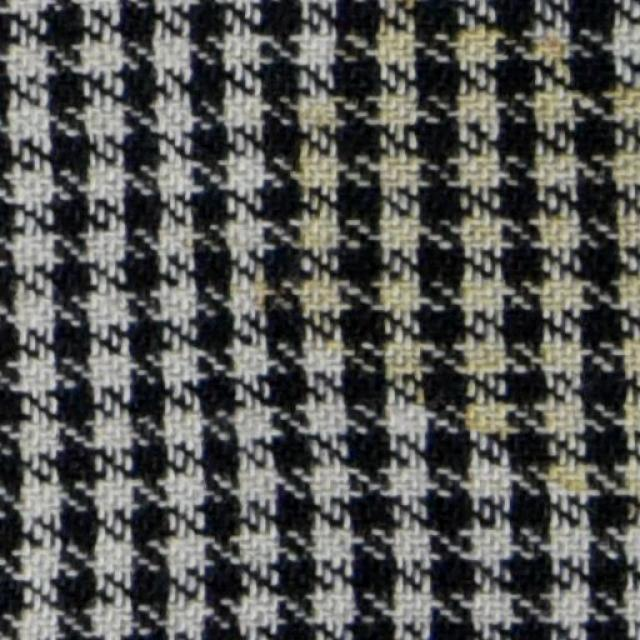Stain: (263, 20, 639, 542)
